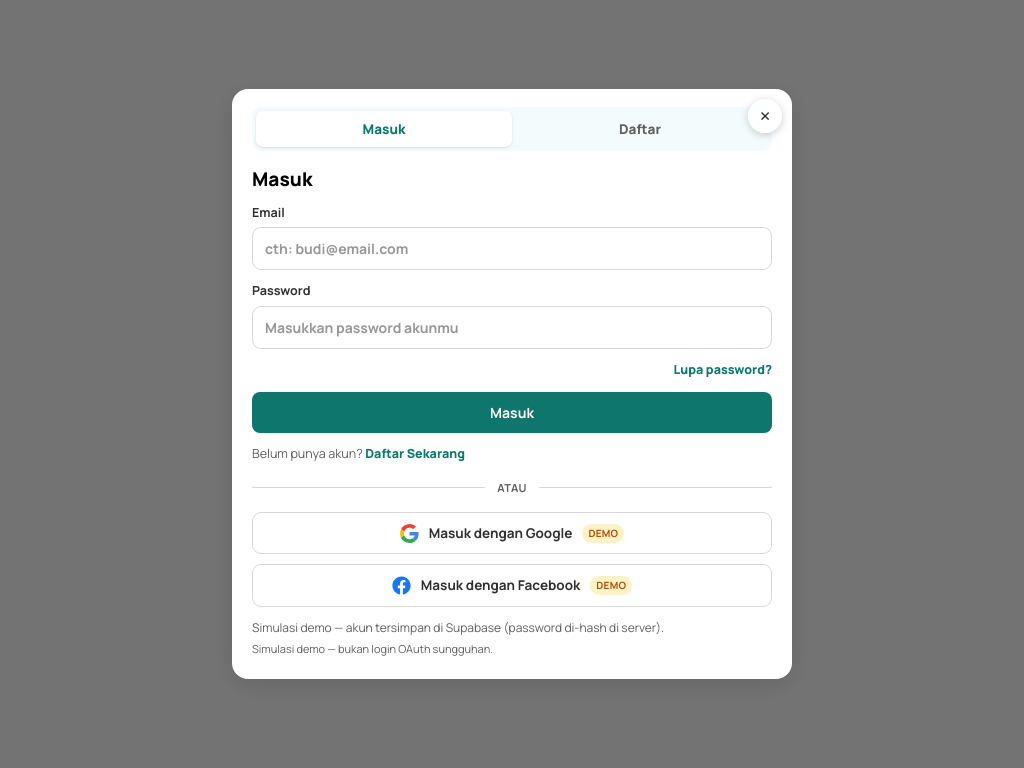
AuthModal › menampilkan pesan generik dan menandai field password saat kredensial salah
Type "siti@email.com" into the field labelled "Email" at (512,249), box [252,228,772,270]
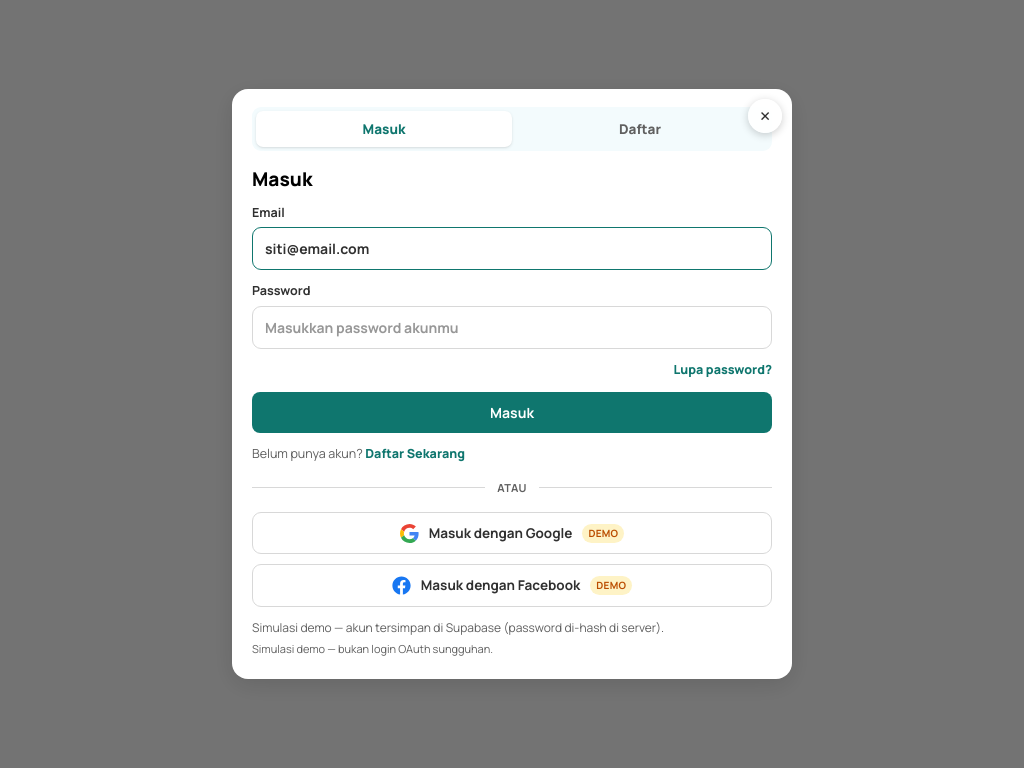
Type "rahasia999" into the password field labelled "Password" at (512,328), box [252,306,772,349]
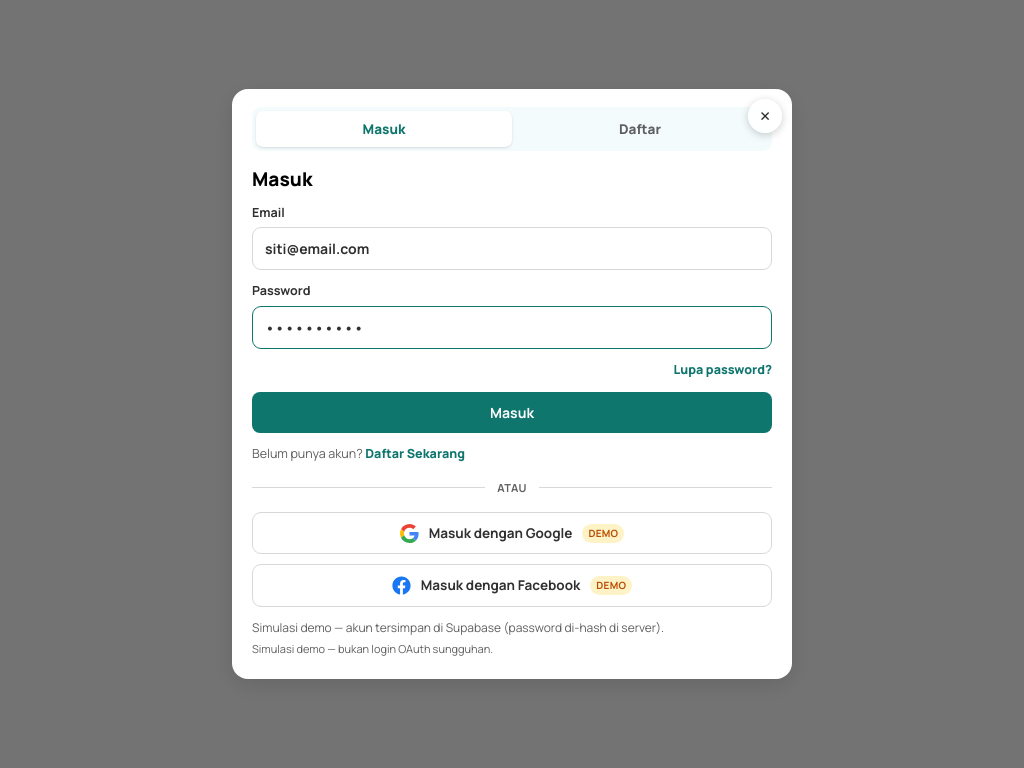
Click the button "Masuk" below "Email" at (512,412), box [252,392,772,433]
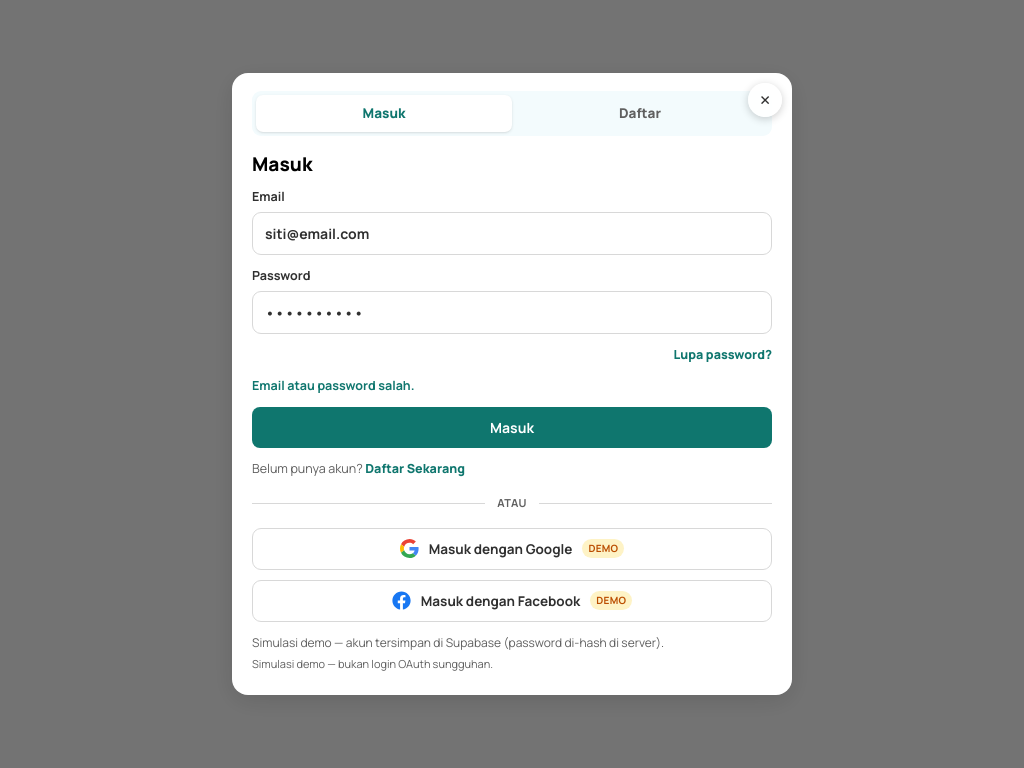
Expected: the message reads "Email atau password salah.", [252,377,414,394]
